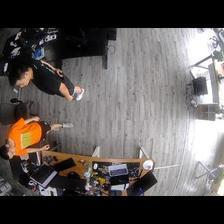normal: (5, 58, 84, 101), (1, 117, 74, 159)
